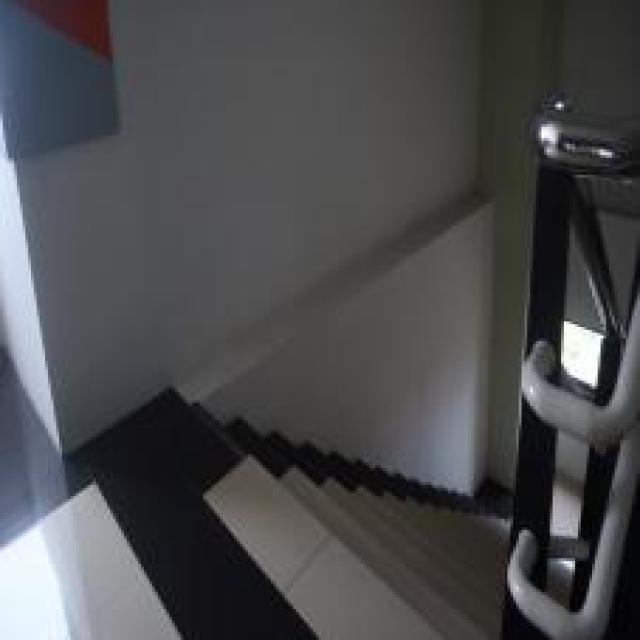downstair: (155, 477, 460, 637)
